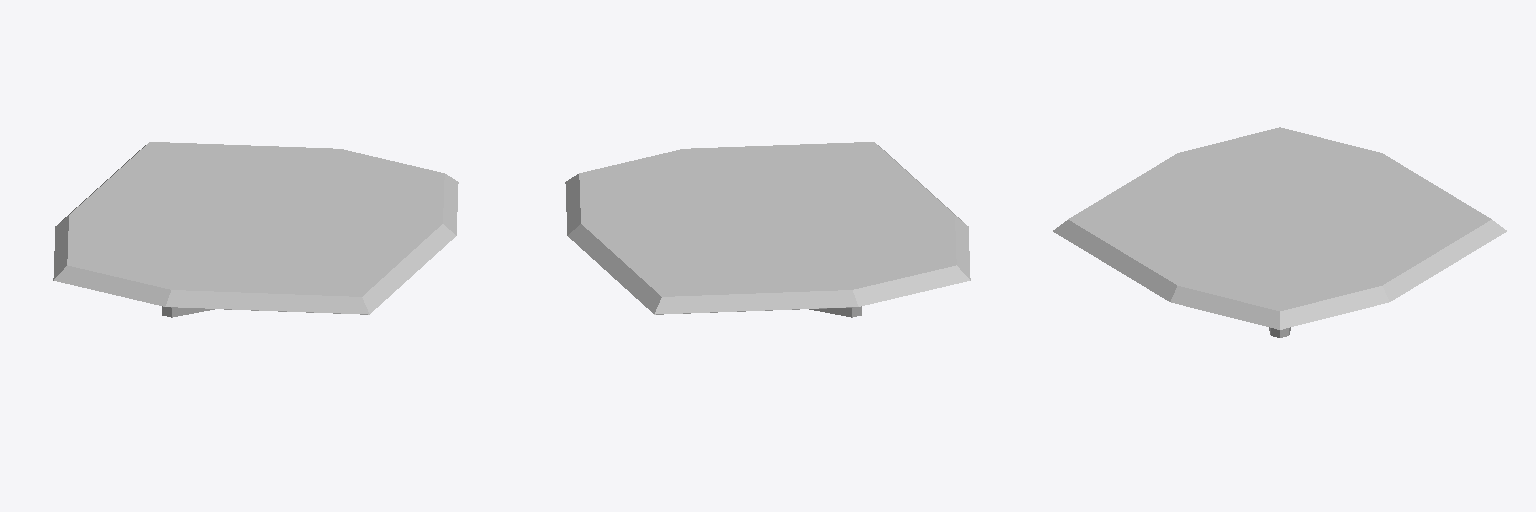
File: Octo_Table.obj
3 renders of one model, left to right at view 1: azimuth 30°, elevation 25°; view 2: azimuth 150°, elevation 25°; view 3: azimuth 270°, elevation 25°, orthographic.
Parts seen in each view (by area): view 1: Octo_Table; view 2: Octo_Table; view 3: Octo_Table.
Boxes of the visible parts, <box> form: Octo_Table: <box>53,142,458,317</box>; Octo_Table: <box>565,142,970,317</box>; Octo_Table: <box>1053,127,1506,337</box>.
Bounding box in the file's own units: 5.41 × 0.9342 × 5.26.